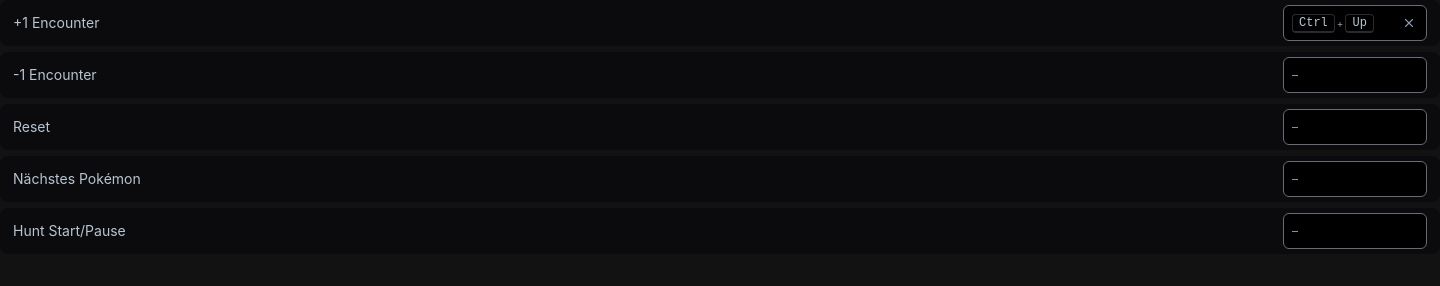
Test case: HotkeySettings › names the other holder when the backend answers 409
Click the button named "-1 Encounter: Keine Taste zugewiesen" at (1355, 75), box [1283, 57, 1427, 93]
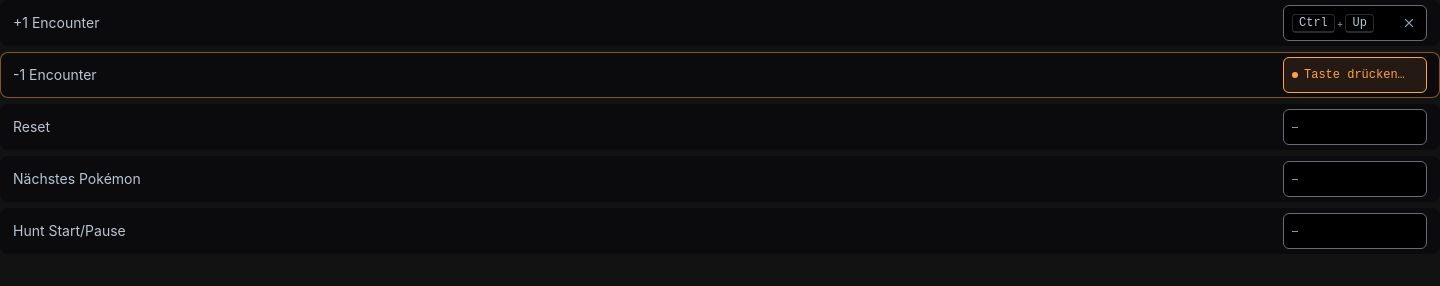
Press F5
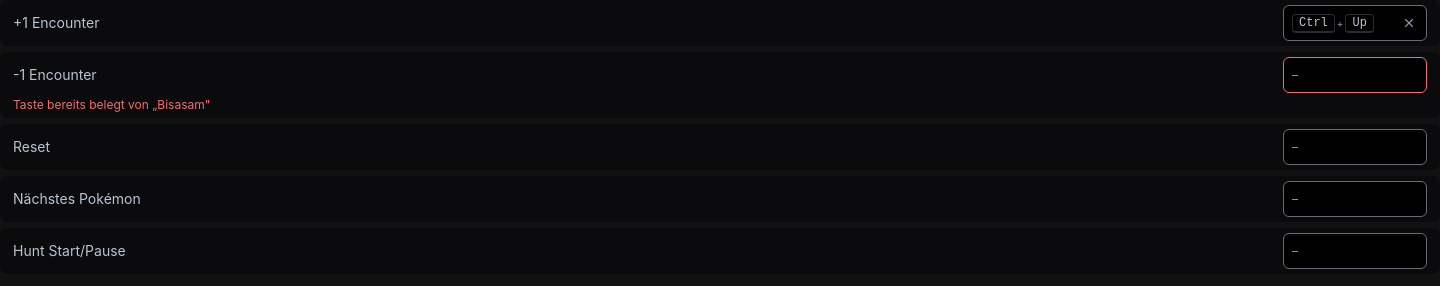
Now the message reads "Taste bereits belegt von „Bisasam\"", box [13, 97, 210, 112]
